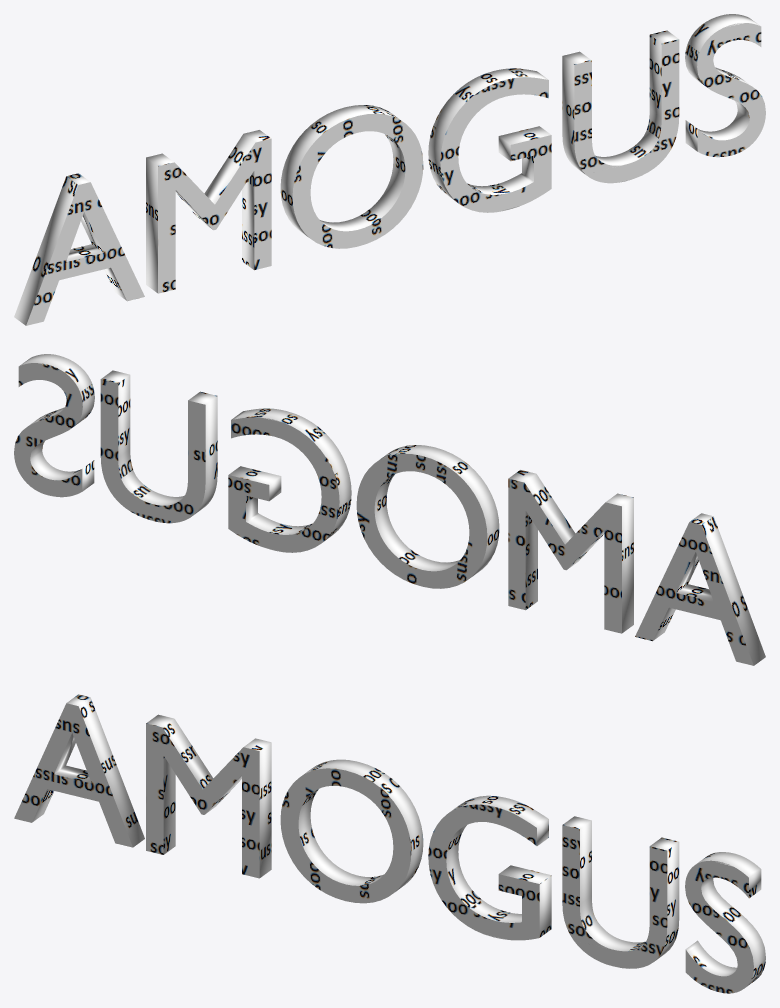
3 renders of one model, top to bottom at view 1: azimuth 30°, elevation 25°; view 2: azimuth 150°, elevation 25°; view 3: azimuth 330°, elevation 25°, orthographic.
Visible parts, largest first — view 1: Text_CUText; view 2: Text_CUText; view 3: Text_CUText.
Boxes of the visible parts, <box> form: Text_CUText: <box>14,14,765,325</box>; Text_CUText: <box>14,354,765,665</box>; Text_CUText: <box>14,694,765,993</box>.
Bounding box in the file's own units: 4.14 × 0.7 × 0.1171.
Materials: 1 (1 with a texture image).
